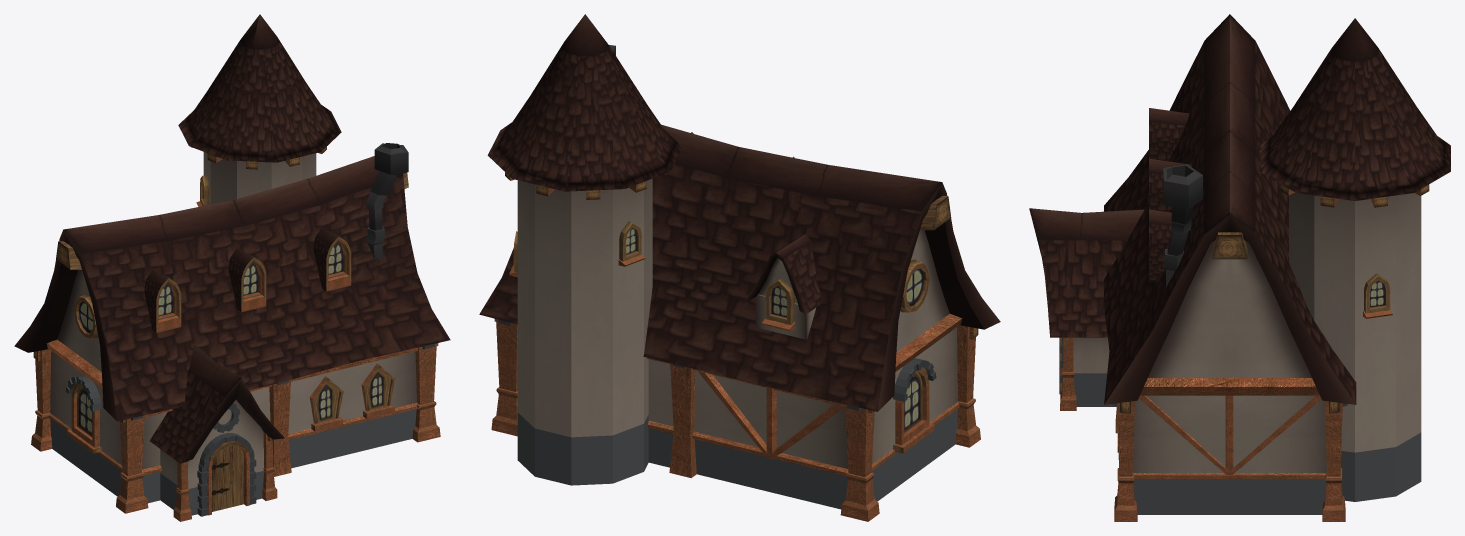
The model's file is fanasty_mod_village_building13.fbx.
The picture shows the model from 3 angles, left to right: view 1: azimuth 30°, elevation 25°; view 2: azimuth 150°, elevation 25°; view 3: azimuth 270°, elevation 25°; orthographic projection. The views are drawn at different scales.
Visible parts, largest first — view 1: village_building_013; view 2: village_building_013; view 3: village_building_013.
Boxes of the visible parts, left/top/right/bottom form: village_building_013: left=14, top=14, right=450, bottom=521; village_building_013: left=479, top=14, right=1000, bottom=521; village_building_013: left=1029, top=14, right=1450, bottom=521.
Bounding box in the file's own units: 12.57 × 13.17 × 11.07.
